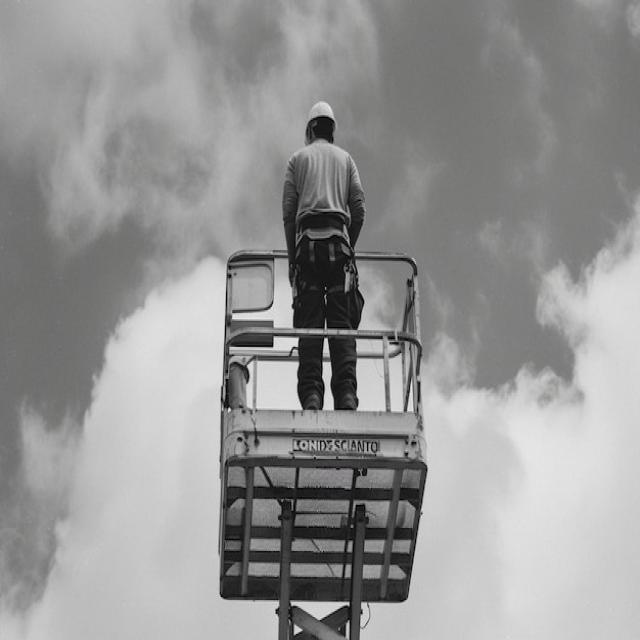Arnes_seguridad: (292, 209, 354, 302)
